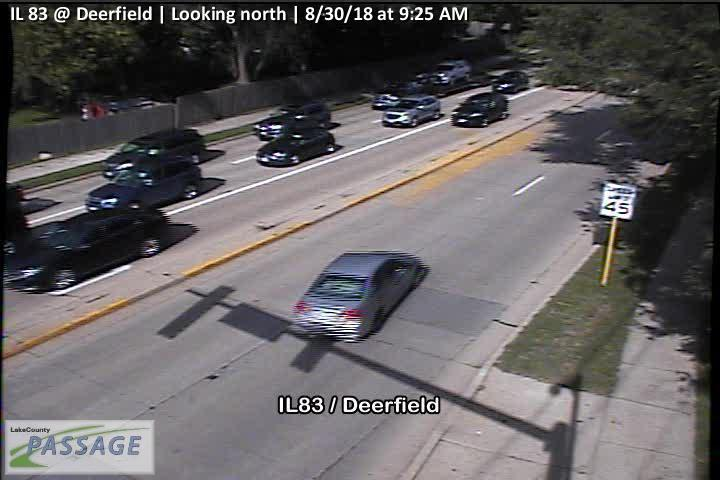SUV: (82, 154, 203, 215), (100, 129, 206, 183), (251, 103, 332, 141), (382, 93, 444, 128)
Sedan: (3, 205, 169, 295), (288, 250, 429, 341), (256, 129, 336, 168), (450, 92, 511, 128), (370, 88, 416, 110), (491, 71, 531, 95)
